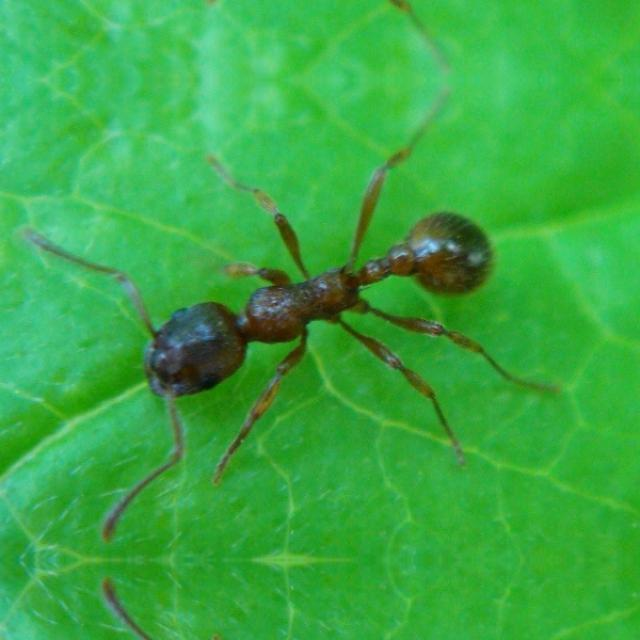Myrmica: (143, 158, 515, 460)
